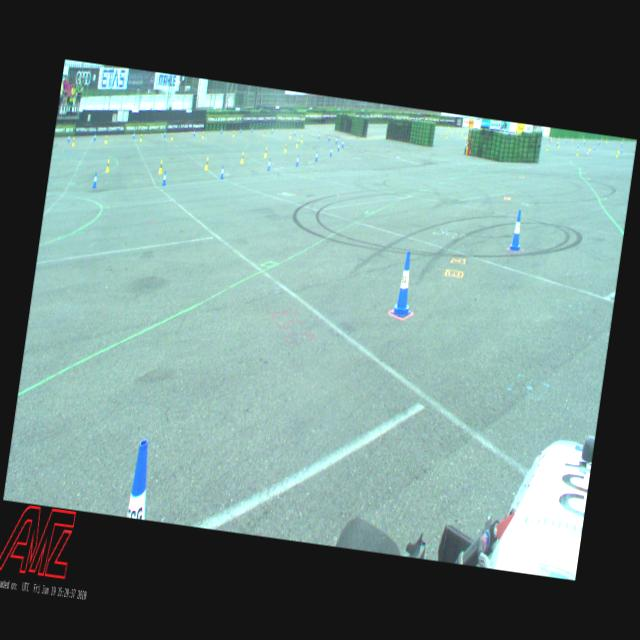blue_cone: (127, 438, 156, 520), (391, 250, 419, 318), (509, 209, 526, 251), (92, 172, 98, 188), (162, 170, 168, 185), (220, 165, 225, 179), (267, 158, 271, 170), (296, 155, 300, 166), (330, 147, 333, 156), (341, 140, 344, 148), (94, 132, 97, 140), (316, 151, 318, 161), (338, 142, 340, 152), (220, 128, 223, 134), (328, 134, 331, 140), (68, 134, 70, 142), (164, 130, 166, 138), (240, 126, 242, 134), (336, 137, 338, 144), (318, 132, 320, 139), (133, 132, 135, 139), (621, 148, 623, 154), (251, 126, 253, 132), (594, 145, 596, 151), (272, 128, 274, 134), (194, 130, 196, 136), (294, 130, 296, 136), (566, 138, 568, 144), (577, 143, 579, 148)
orange_cone: (586, 150, 590, 157)
yellow_cone: (158, 160, 164, 173), (204, 157, 210, 170), (106, 160, 110, 172), (264, 146, 268, 158), (241, 152, 245, 162), (104, 134, 108, 144), (72, 137, 76, 146), (296, 138, 299, 148), (284, 143, 287, 152), (171, 132, 174, 140), (232, 129, 235, 137), (300, 136, 304, 142), (263, 130, 266, 138), (289, 132, 292, 138), (140, 134, 142, 142), (616, 150, 618, 158), (618, 147, 620, 154), (576, 150, 578, 156), (202, 132, 204, 138), (546, 146, 548, 152), (572, 136, 574, 142), (589, 146, 591, 151), (558, 144, 560, 148)
